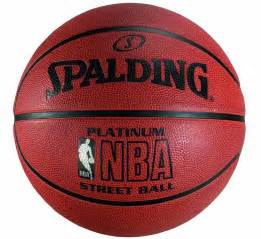basketball: (10, 2, 249, 239)
